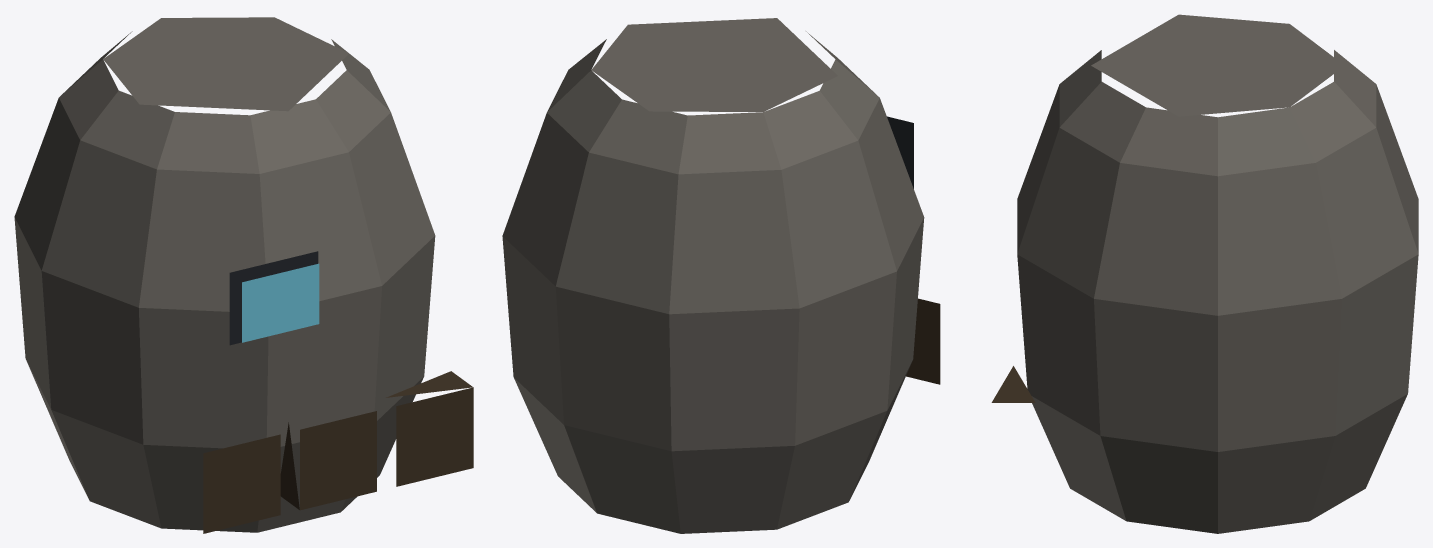
Rendered from tracker-utility-vest.lod.glb.
3 renders of one model, left to right at view 1: azimuth 30°, elevation 25°; view 2: azimuth 150°, elevation 25°; view 3: azimuth 270°, elevation 25°, orthographic.
Parts seen in each view (by area): view 1: m; view 2: m; view 3: m.
Part boxes in pixels (<box>): m: <box>14,17,473,533</box>; m: <box>502,18,940,533</box>; m: <box>991,14,1418,533</box>.
Bounding box in the file's own units: 0.1854 × 0.1951 × 0.1877.
